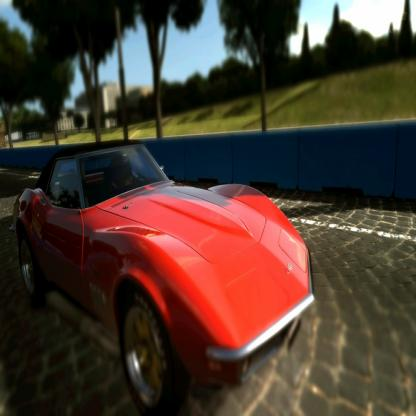Car: (18, 137, 313, 416)
